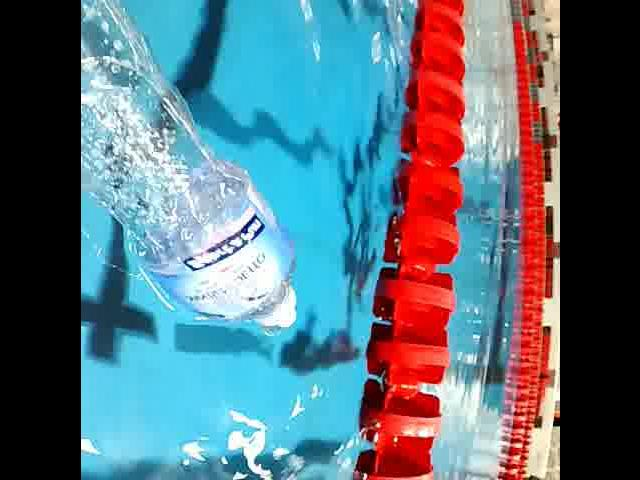Bottle: (80, 0, 303, 345)
